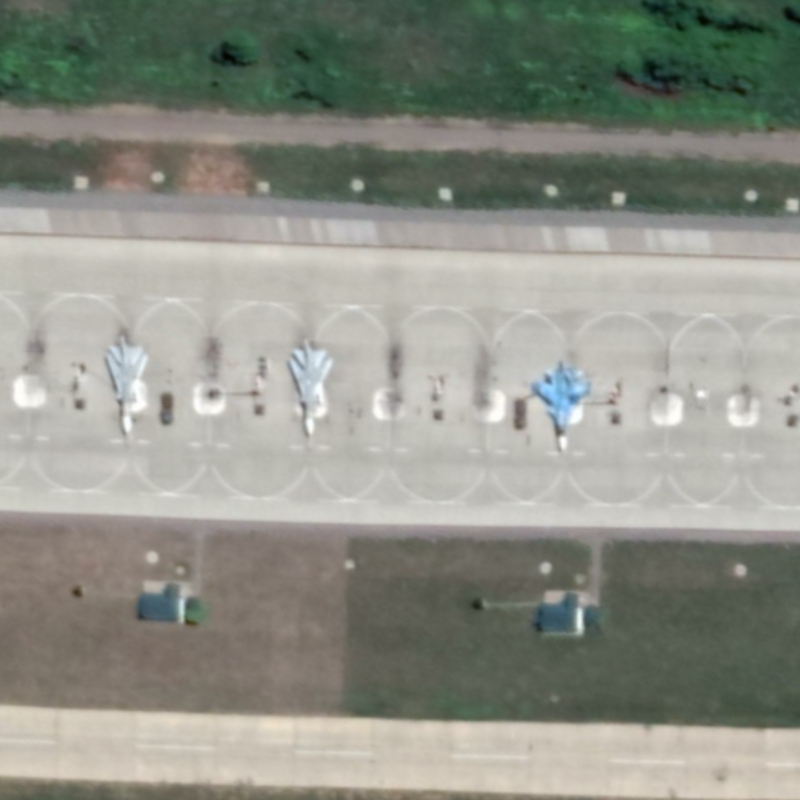A19: (532, 358, 593, 454)
A20: (287, 337, 335, 439), (103, 334, 150, 435)
